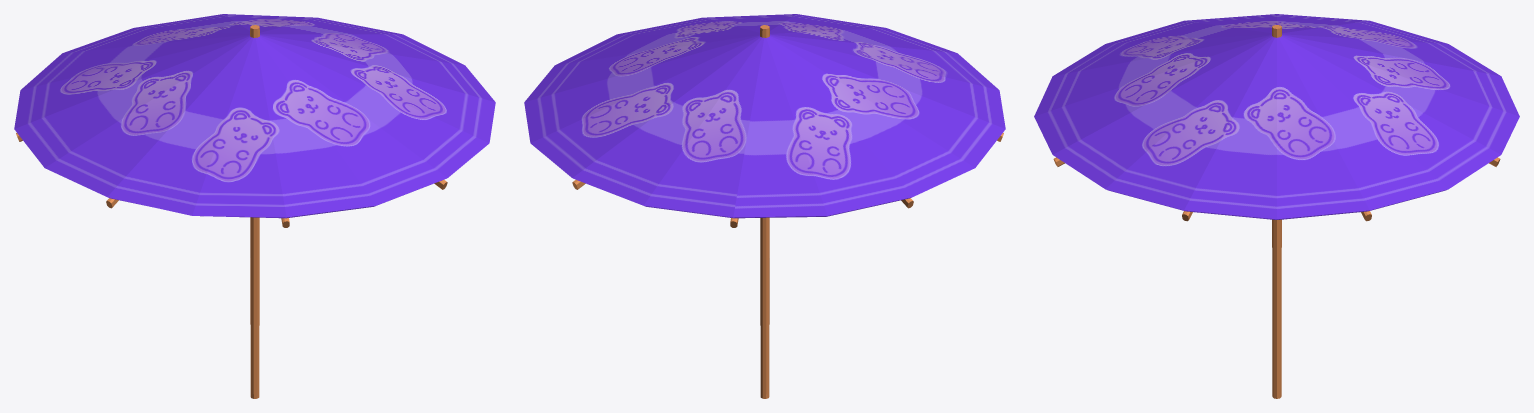
File: parasol_purple.fbx
3 views of the same model, side by side, from view 1: azimuth 30°, elevation 25°; view 2: azimuth 150°, elevation 25°; view 3: azimuth 270°, elevation 25° (orthographic).
Visible parts, largest first — view 1: parasol_purple; view 2: parasol_purple; view 3: parasol_purple.
Boxes of the visible parts, x1,y1,x2,y2 form: parasol_purple: (14,14,495,398); parasol_purple: (524,14,1005,398); parasol_purple: (1034,14,1519,398).
Size of the model in its own units: 84.36 by 70.92 by 84.36.
